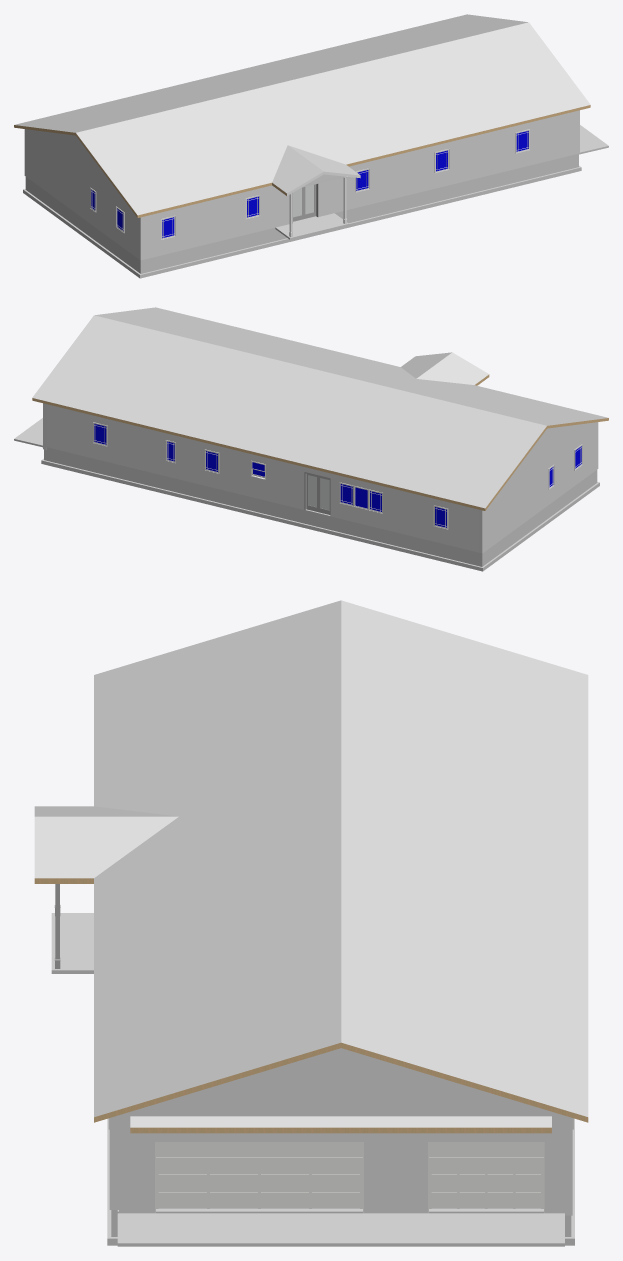
File: Ranch House Test File.gltf
3 views of the same model, one above another, from view 1: azimuth 30°, elevation 25°; view 2: azimuth 150°, elevation 25°; view 3: azimuth 270°, elevation 25° (orthographic). The views are drawn at different scales.
Parts seen in each view (by area): view 1: Basic Roof [3677573], Basic Wall [2061589], Basic Wall [2061651], Basic Wall [4156129], Wall Foundation [4158402], Basic Wall [4155509], Floor [4323892], Wall Foundation [4158388], object 74, Floor [4370259], object 75; view 2: Basic Roof [3677573], Basic Wall [2061731], Basic Wall [2061651], Basic Wall [4156166], Wall Foundation [4158430], Basic Wall [4155509], Wall Foundation [4158388], object 76, object 77, Floor [4370259]; view 3: Basic Roof [3677573], Basic Wall [1947753], Floor [4370259], object 55, object 53, Basic Roof [4325731], Floor [4323892], Floor [4316737].
Boxes of the visible parts, bbox=[...] form: Basic Roof [3677573]: bbox=[14, 14, 590, 217]; Basic Wall [2061589]: bbox=[144, 111, 576, 259]; Basic Wall [2061651]: bbox=[24, 129, 143, 260]; Basic Wall [4156129]: bbox=[144, 154, 575, 272]; Wall Foundation [4158402]: bbox=[146, 165, 581, 276]; Basic Wall [4155509]: bbox=[25, 177, 143, 273]; Floor [4323892]: bbox=[275, 213, 348, 239]; Wall Foundation [4158388]: bbox=[23, 189, 146, 278]; object 74: bbox=[293, 185, 314, 217]; Floor [4370259]: bbox=[579, 125, 608, 154]; object 75: bbox=[292, 183, 318, 223]; Basic Roof [3677573]: bbox=[32, 307, 608, 510]; Basic Wall [2061731]: bbox=[46, 404, 478, 552]; Basic Wall [2061651]: bbox=[479, 422, 598, 553]; Basic Wall [4156166]: bbox=[44, 447, 478, 565]; Wall Foundation [4158430]: bbox=[48, 461, 476, 569]; Basic Wall [4155509]: bbox=[479, 470, 597, 566]; Wall Foundation [4158388]: bbox=[476, 482, 599, 571]; object 76: bbox=[308, 475, 329, 510]; object 77: bbox=[304, 472, 330, 515]; Floor [4370259]: bbox=[14, 418, 42, 447]; Basic Roof [3677573]: bbox=[34, 600, 588, 1122]; Basic Wall [1947753]: bbox=[109, 1048, 572, 1215]; Floor [4370259]: bbox=[117, 1213, 564, 1246]; object 55: bbox=[155, 1142, 363, 1213]; object 53: bbox=[428, 1142, 544, 1213]; Basic Roof [4325731]: bbox=[130, 1116, 551, 1133]; Floor [4323892]: bbox=[51, 913, 93, 973]; Floor [4316737]: bbox=[117, 1208, 543, 1213].
Bounding box in the file's own units: 29.21 × 6.1 × 14.68.
Materials: 38 (11 with a texture image).
